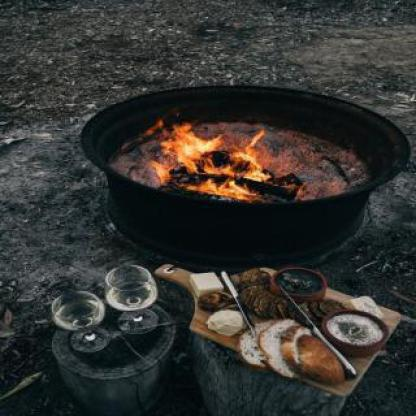fire: (143, 116, 278, 204)
